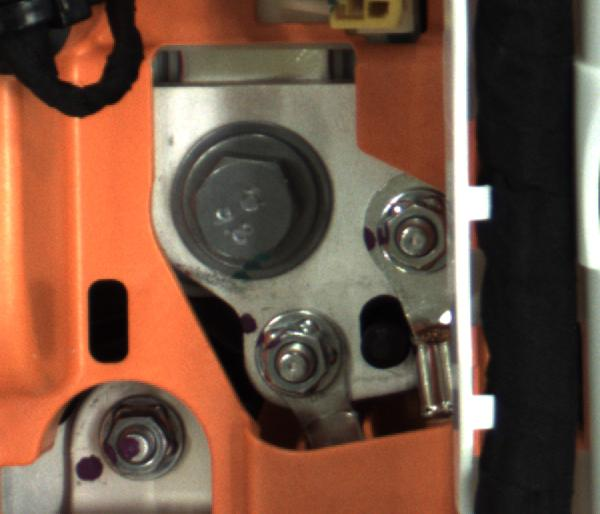nut_b: (166, 120, 328, 277)
screw_s: (97, 395, 193, 480), (258, 318, 351, 397), (371, 195, 448, 277)
